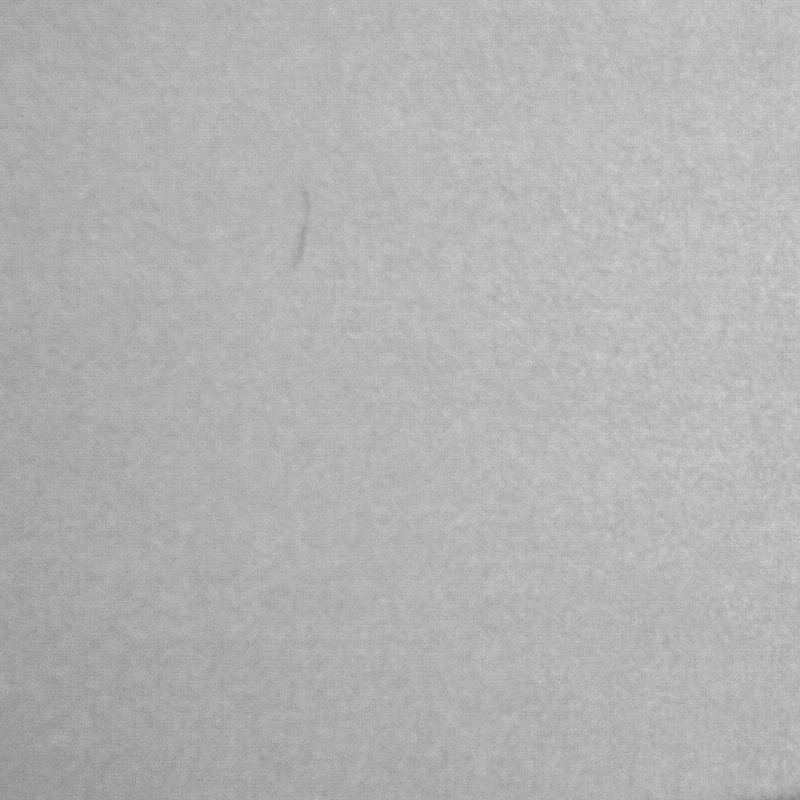defect: (293, 191, 309, 268)
